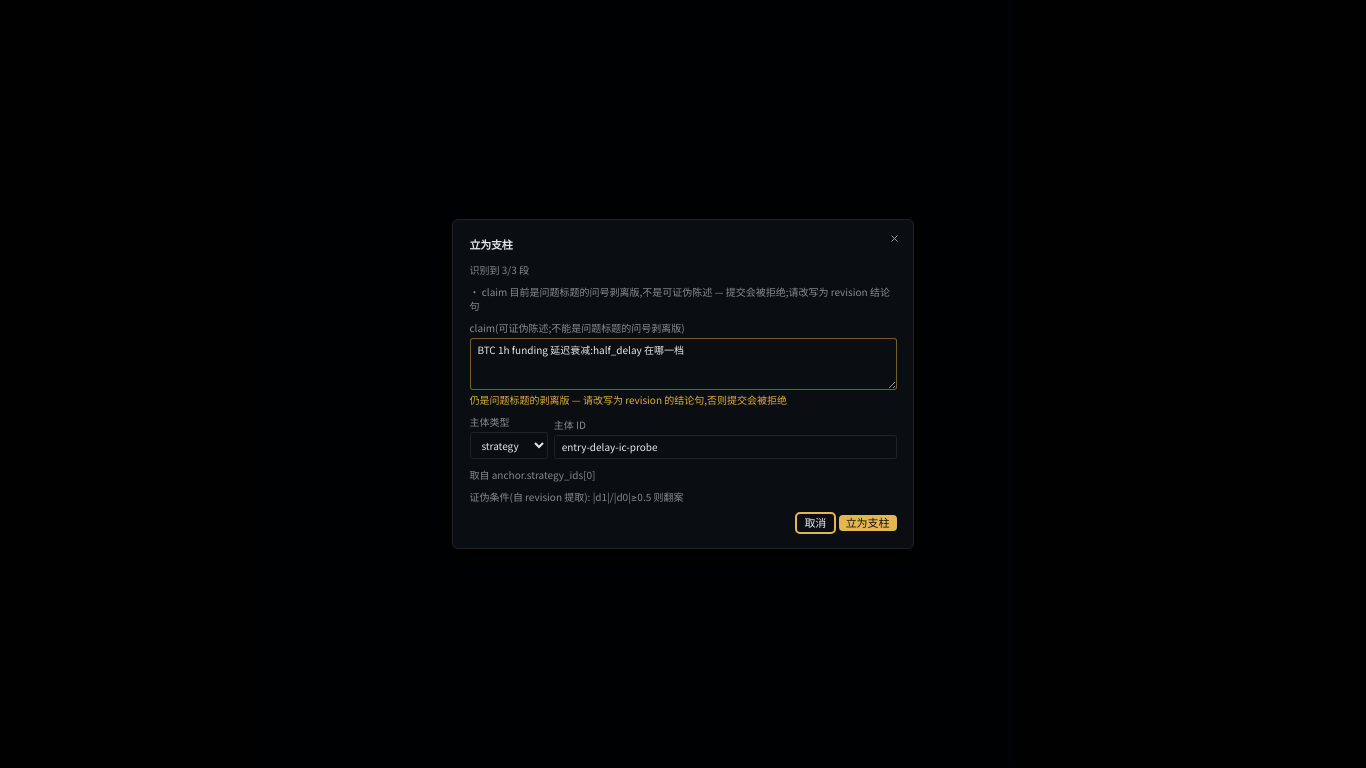
Test: PromoteDialog › 提交失败显示错误,不关闭
Step 1. Replace the text in the text box with test id "promote-claim" with "改写过的陈述。" → (683, 364), box [470,338,896,390]
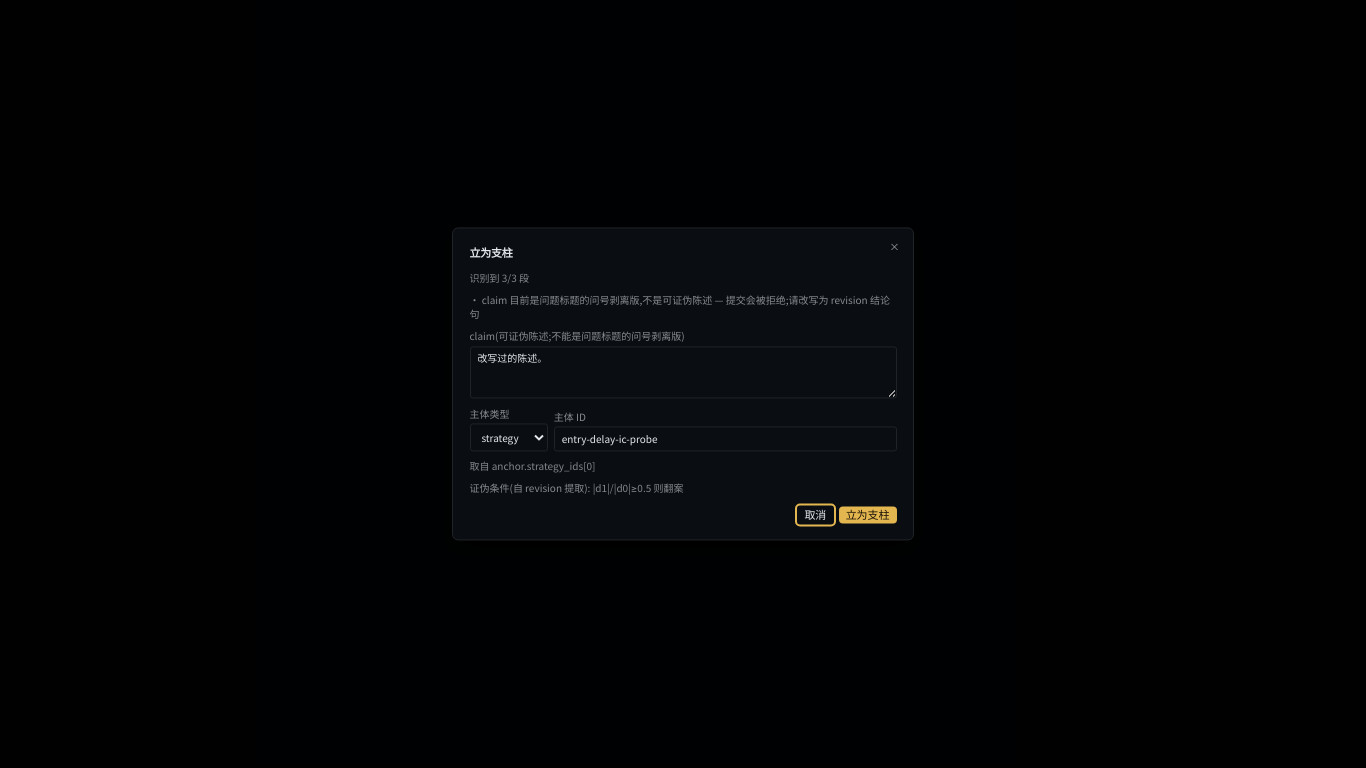
Step 2. Click the button with test id "promote-submit" → (868, 515), box [839,507,897,523]
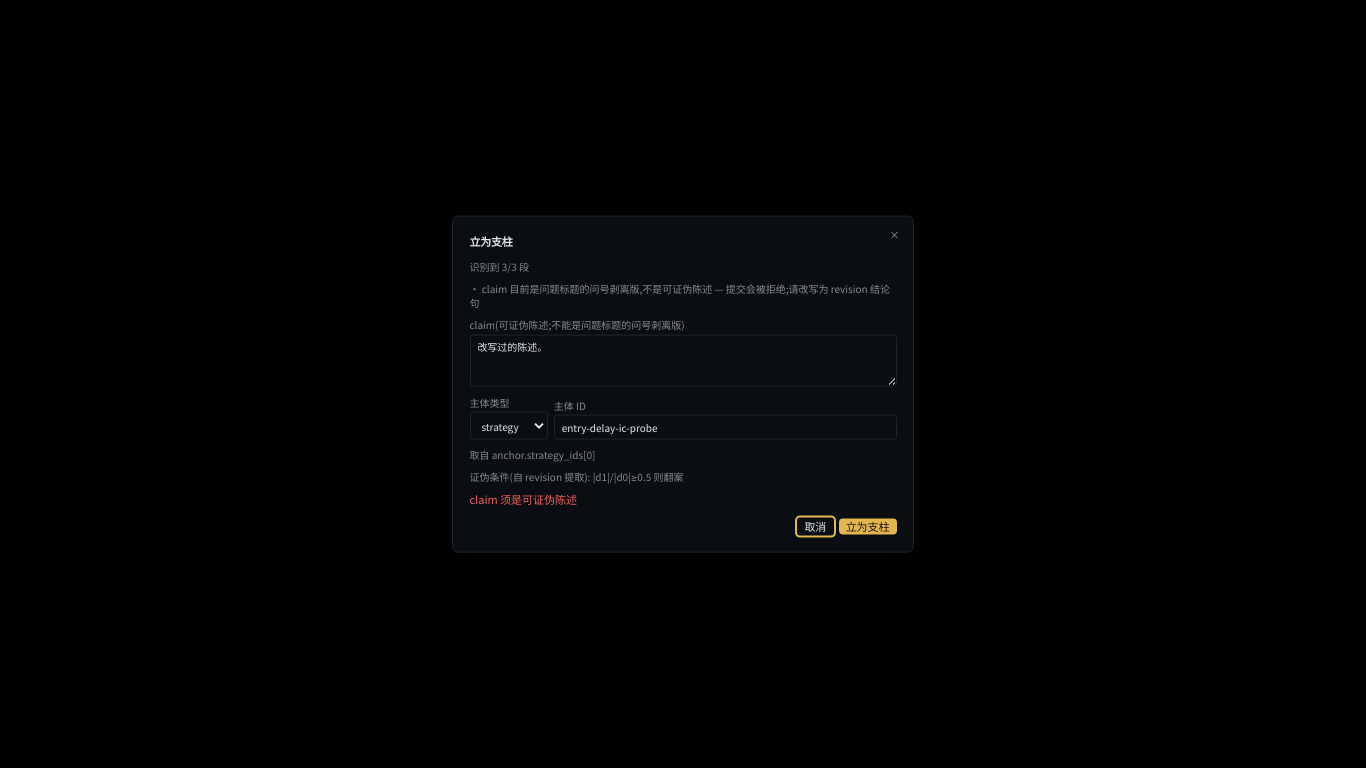
Expected: the text with test id "promote-submit-error" shows "可证伪陈述", [470,491,577,507]
